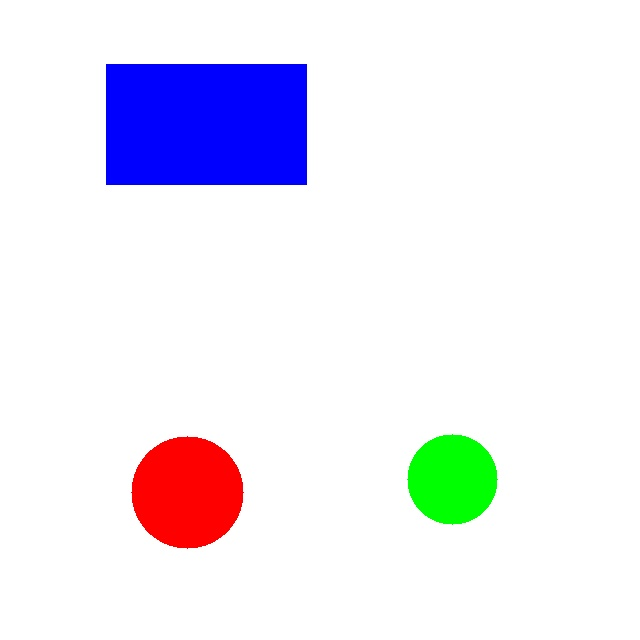cartao: (106, 64, 306, 184)
rosca_externa: (407, 434, 497, 524)
rosca_interna: (131, 436, 243, 548)
